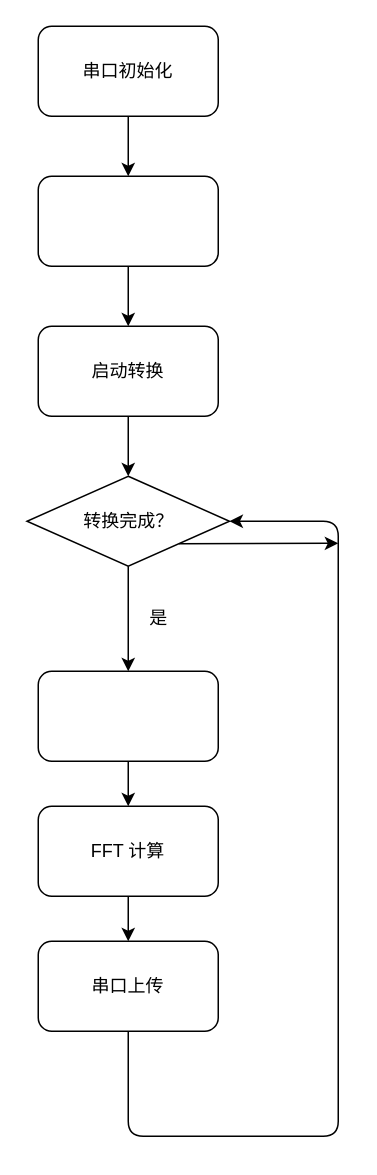
The diagram is 377 pixels wide and 1175 high, and some of its shapes have lost their labels. The shapes that lost their labels are listed below. From the top down, each one's box as (x1, y1, x2, y2) in pixels, then its label:
(37, 175, 218, 266): 初始化 ADC & DMA
(37, 670, 218, 761): 复制采样缓冲区
